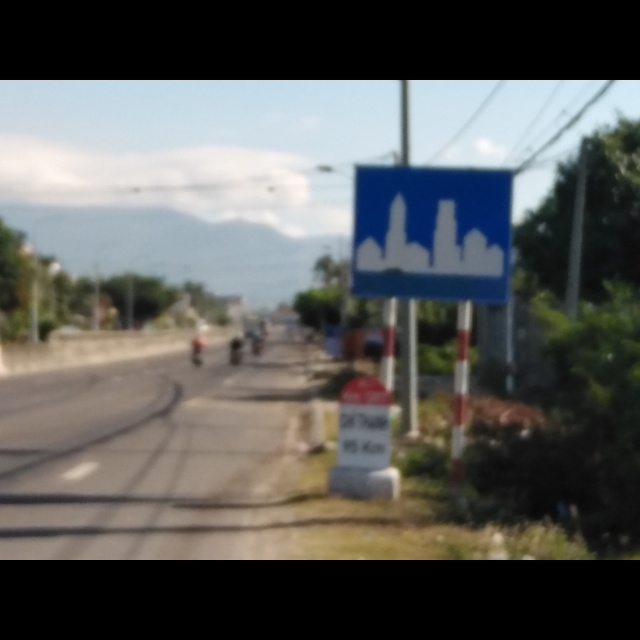Khu đông dân cư: (350, 159, 517, 307)
